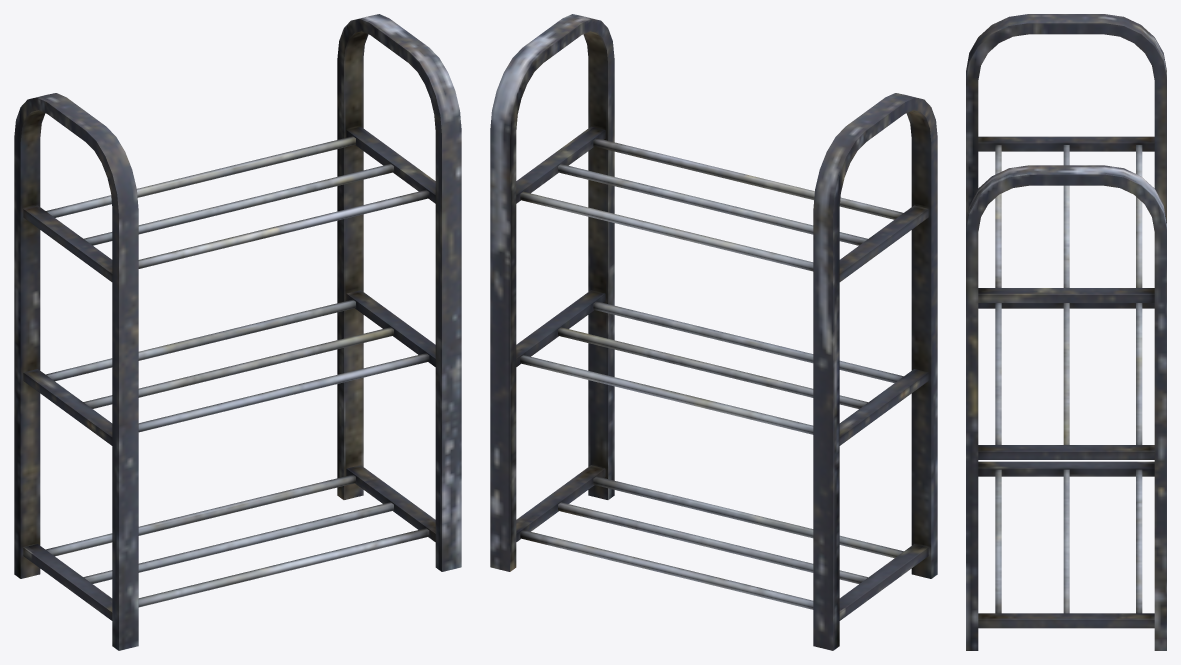
The model's file is ShoeRack.FBX.
The picture shows the model from 3 angles, left to right: view 1: azimuth 30°, elevation 25°; view 2: azimuth 150°, elevation 25°; view 3: azimuth 270°, elevation 25°; orthographic projection. The views are drawn at different scales.
Visible parts, largest first — view 1: ShoeRack; view 2: ShoeRack; view 3: ShoeRack.
Part boxes in pixels (bbox=[...]): ShoeRack: bbox=[14, 14, 461, 650]; ShoeRack: bbox=[490, 14, 937, 650]; ShoeRack: bbox=[966, 14, 1166, 650].
Size of the model in its own units: 62.66 by 86.66 by 33.09.
